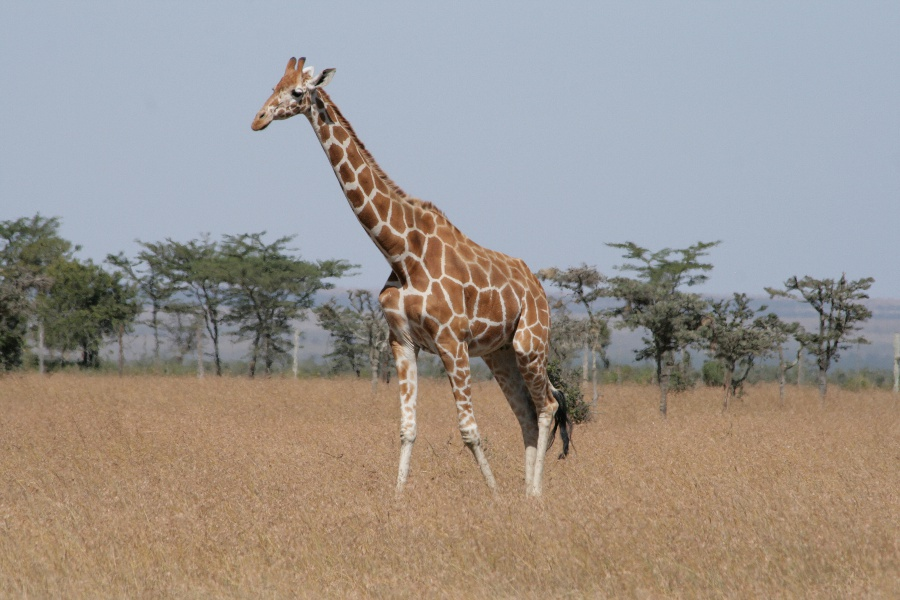giraffe: (242, 49, 581, 508)
